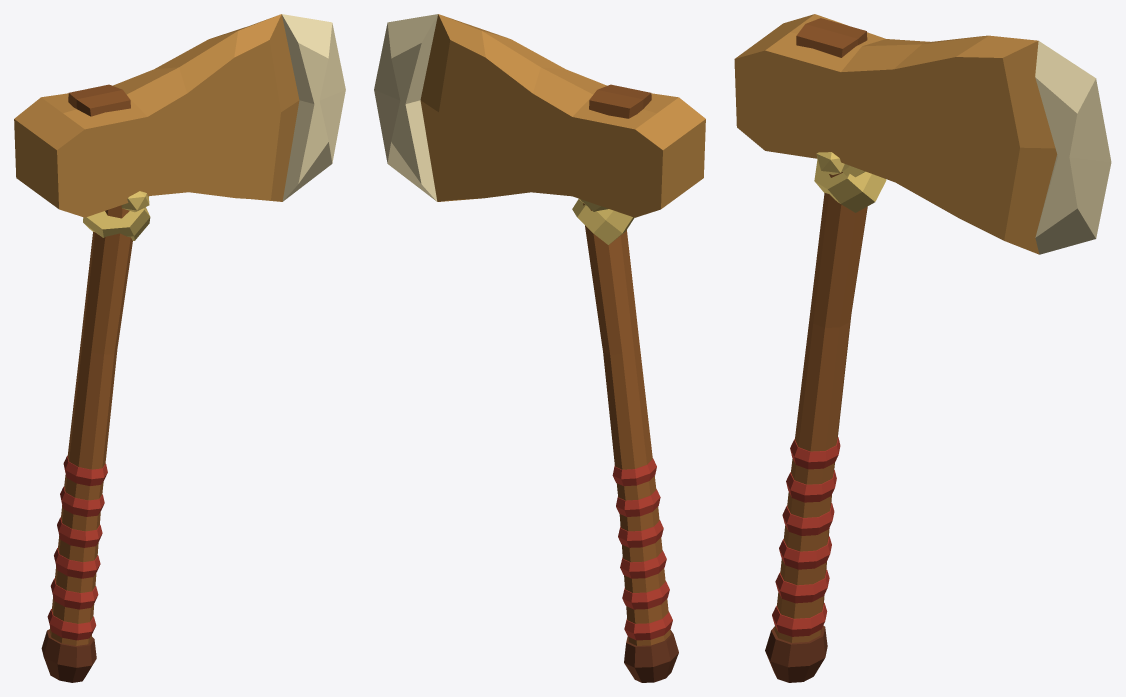
The model's file is wooden_axe_world.glb.
3 views of the same model, side by side, from view 1: azimuth 30°, elevation 25°; view 2: azimuth 150°, elevation 25°; view 3: azimuth 330°, elevation 25° (orthographic). The views are drawn at different scales.
Parts seen in each view (by area): view 1: Wooden_Axe_Head, Handle, Wooden_Axe_Edge, Handle_Butt, Wooden_Axe_Wedge, Lashing_1, Grip_Wrap_1, Grip_Wrap_2, Grip_Wrap_3, Grip_Wrap_4, Grip_Wrap_5, Grip_Wrap_6; view 2: Wooden_Axe_Head, Handle, Wooden_Axe_Edge, Handle_Butt, Wooden_Axe_Wedge, Lashing_1, Grip_Wrap_1, Grip_Wrap_2, Grip_Wrap_3, Grip_Wrap_4, Grip_Wrap_5, Grip_Wrap_6; view 3: Wooden_Axe_Head, Handle, Wooden_Axe_Edge, Handle_Butt, Lashing_1, Wooden_Axe_Wedge, Grip_Wrap_1, Grip_Wrap_2, Grip_Wrap_3, Grip_Wrap_4, Grip_Wrap_5, Grip_Wrap_6.
Part boxes in pixels (x1=…): Wooden_Axe_Head: x1=14, y1=14, x2=299, y2=217; Handle: x1=49, y1=205, x2=132, y2=645; Wooden_Axe_Edge: x1=281, y1=14, x2=345, y2=201; Handle_Butt: x1=41, y1=629, x2=96, y2=682; Wooden_Axe_Wedge: x1=68, y1=84, x2=130, y2=116; Lashing_1: x1=83, y1=207, x2=150, y2=240; Grip_Wrap_1: x1=47, y1=609, x2=96, y2=640; Grip_Wrap_2: x1=50, y1=578, x2=98, y2=609; Grip_Wrap_3: x1=54, y1=548, x2=100, y2=578; Grip_Wrap_4: x1=57, y1=517, x2=102, y2=547; Grip_Wrap_5: x1=60, y1=486, x2=104, y2=516; Grip_Wrap_6: x1=63, y1=456, x2=107, y2=485; Wooden_Axe_Head: x1=420, y1=14, x2=705, y2=217; Handle: x1=583, y1=203, x2=670, y2=645; Wooden_Axe_Edge: x1=374, y1=14, x2=437, y2=201; Handle_Butt: x1=624, y1=629, x2=678, y2=682; Wooden_Axe_Wedge: x1=589, y1=84, x2=651, y2=118; Lashing_1: x1=572, y1=199, x2=634, y2=244; Grip_Wrap_1: x1=624, y1=611, x2=672, y2=640; Grip_Wrap_2: x1=622, y1=581, x2=669, y2=609; Grip_Wrap_3: x1=620, y1=550, x2=666, y2=578; Grip_Wrap_4: x1=618, y1=520, x2=663, y2=547; Grip_Wrap_5: x1=616, y1=489, x2=660, y2=516; Grip_Wrap_6: x1=612, y1=458, x2=656, y2=486; Wooden_Axe_Head: x1=734, y1=14, x2=1057, y2=254; Handle: x1=774, y1=172, x2=867, y2=642; Wooden_Axe_Edge: x1=1035, y1=41, x2=1111, y2=254; Handle_Butt: x1=765, y1=625, x2=827, y2=682; Lashing_1: x1=814, y1=161, x2=886, y2=212; Wooden_Axe_Wedge: x1=796, y1=18, x2=867, y2=57; Grip_Wrap_1: x1=772, y1=603, x2=827, y2=636; Grip_Wrap_2: x1=775, y1=569, x2=829, y2=603; Grip_Wrap_3: x1=779, y1=536, x2=831, y2=569; Grip_Wrap_4: x1=782, y1=503, x2=834, y2=535; Grip_Wrap_5: x1=786, y1=470, x2=836, y2=502; Grip_Wrap_6: x1=790, y1=437, x2=840, y2=469.
Bounding box in the file's own units: 0.735 × 1.38 × 0.1859.
